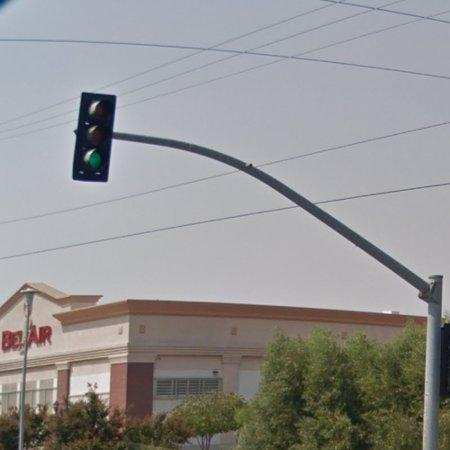traffic lights: (72, 90, 118, 184)
